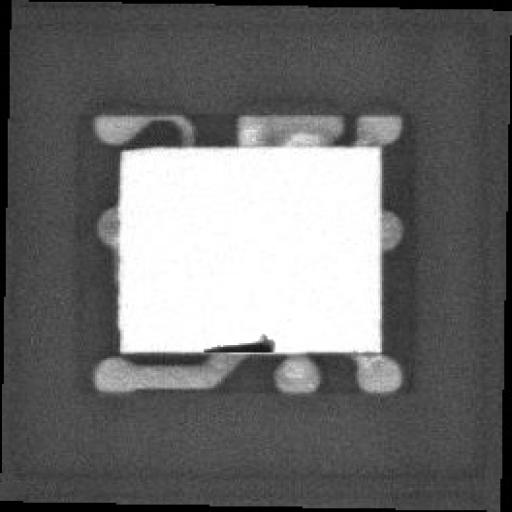DIE_BROKEN: (194, 328, 277, 352)
